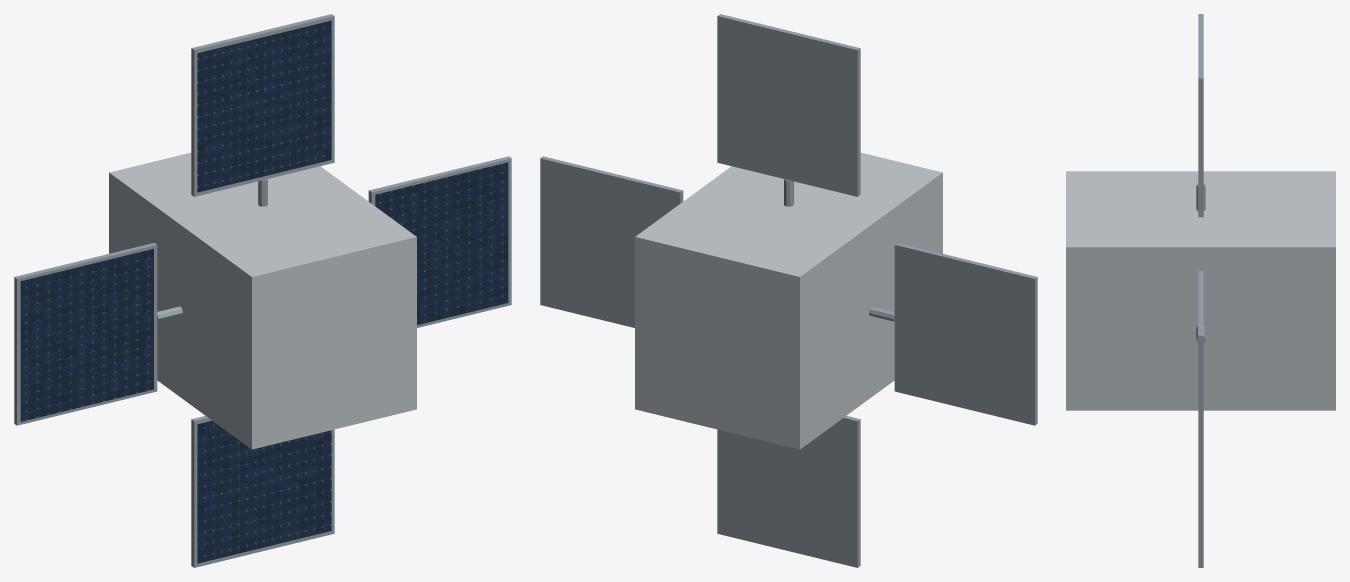
File: ref-saci-25941.glb
3 views of the same model, side by side, from view 1: azimuth 30°, elevation 25°; view 2: azimuth 150°, elevation 25°; view 3: azimuth 270°, elevation 25° (orthographic). The views are drawn at different scales.
Visible parts, largest first — view 1: Photovoltaic laminates (×4), Spacecraft body, Array frame (×4); view 2: Array frame (×4), Spacecraft body; view 3: Spacecraft body, Array frame (×3).
Part boxes in pixels (box(x1,y1,x2,y2)): Photovoltaic laminates (×4): box(20, 20, 508, 563); Spacecraft body: box(109, 152, 416, 449); Array frame (×4): box(14, 14, 511, 567); Array frame (×4): box(540, 14, 1037, 567); Spacecraft body: box(635, 152, 942, 449); Spacecraft body: box(1066, 171, 1335, 410); Array frame (×3): box(1198, 14, 1203, 567).
Size of the model in its own units: 1.2 by 1.2 by 0.6.
Materials: 3 (1 with a texture image).
